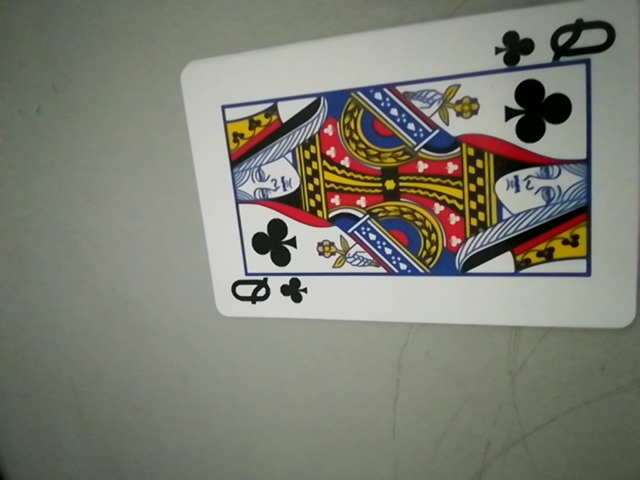mh j: (493, 10, 619, 66), (224, 270, 312, 315)
